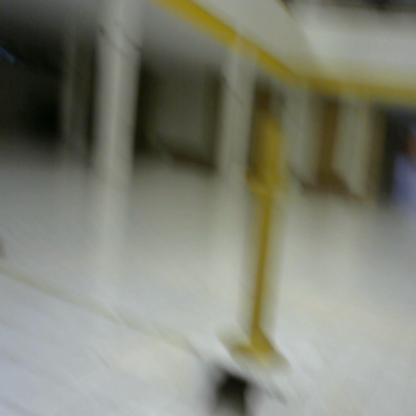pole: (226, 117, 302, 369)
